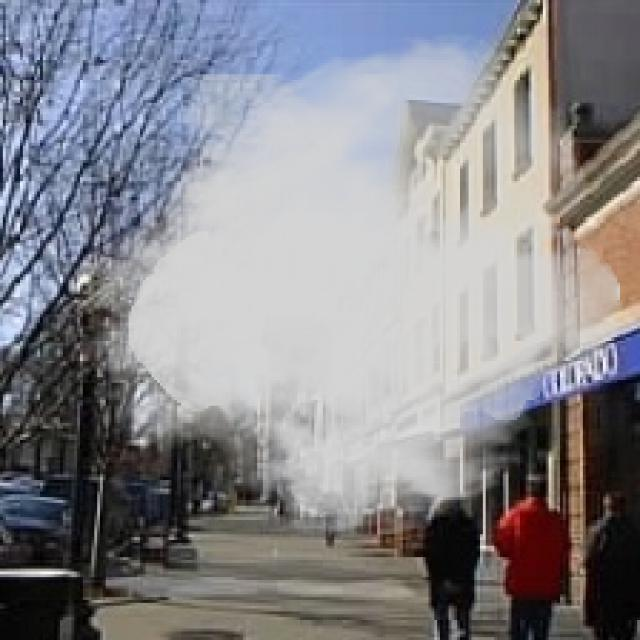smoke: (71, 28, 623, 543)
